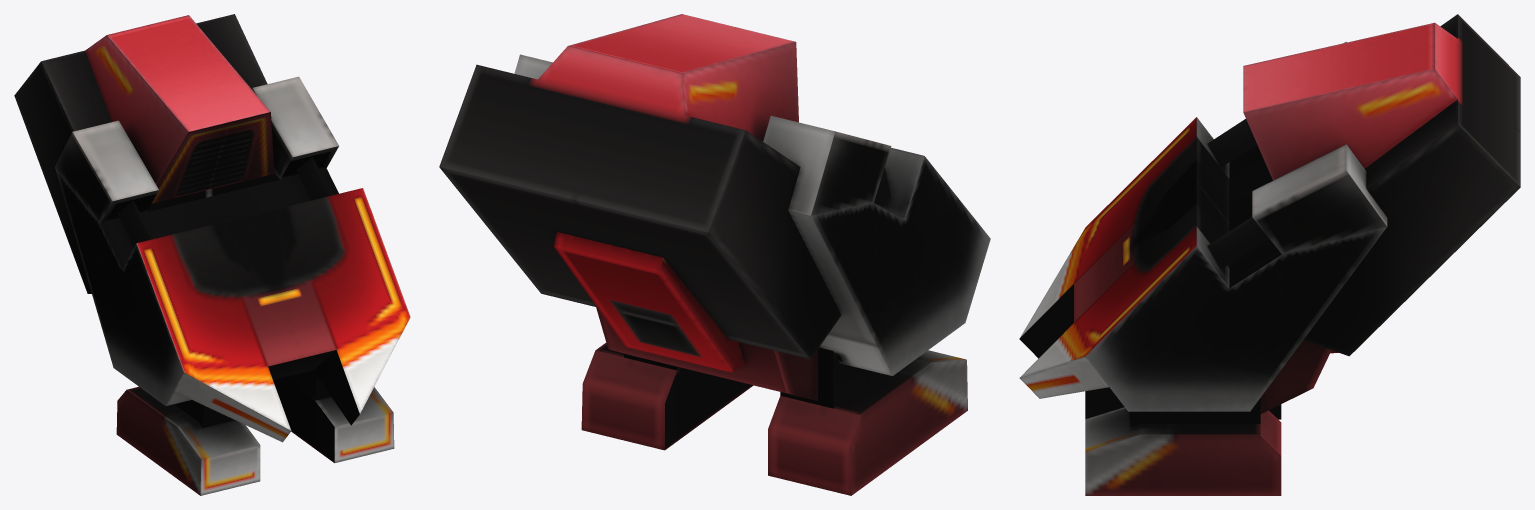
File: datan_common_ss0_arm87_dbkr_180391aa.obj
3 views of the same model, side by side, from view 1: azimuth 30°, elevation 25°; view 2: azimuth 150°, elevation 25°; view 3: azimuth 270°, elevation 25° (orthographic). The views are drawn at different scales.
Visible parts, largest first — view 1: datan_common_ss0_arm87_dbkr_180391aa; view 2: datan_common_ss0_arm87_dbkr_180391aa; view 3: datan_common_ss0_arm87_dbkr_180391aa.
Part boxes in pixels (<box>): datan_common_ss0_arm87_dbkr_180391aa: <box>14,14,410,495</box>; datan_common_ss0_arm87_dbkr_180391aa: <box>439,14,990,495</box>; datan_common_ss0_arm87_dbkr_180391aa: <box>1019,14,1520,495</box>.
Size of the model in its own units: 0.876 by 1.25 by 1.44.
1 material, 1 textured.
